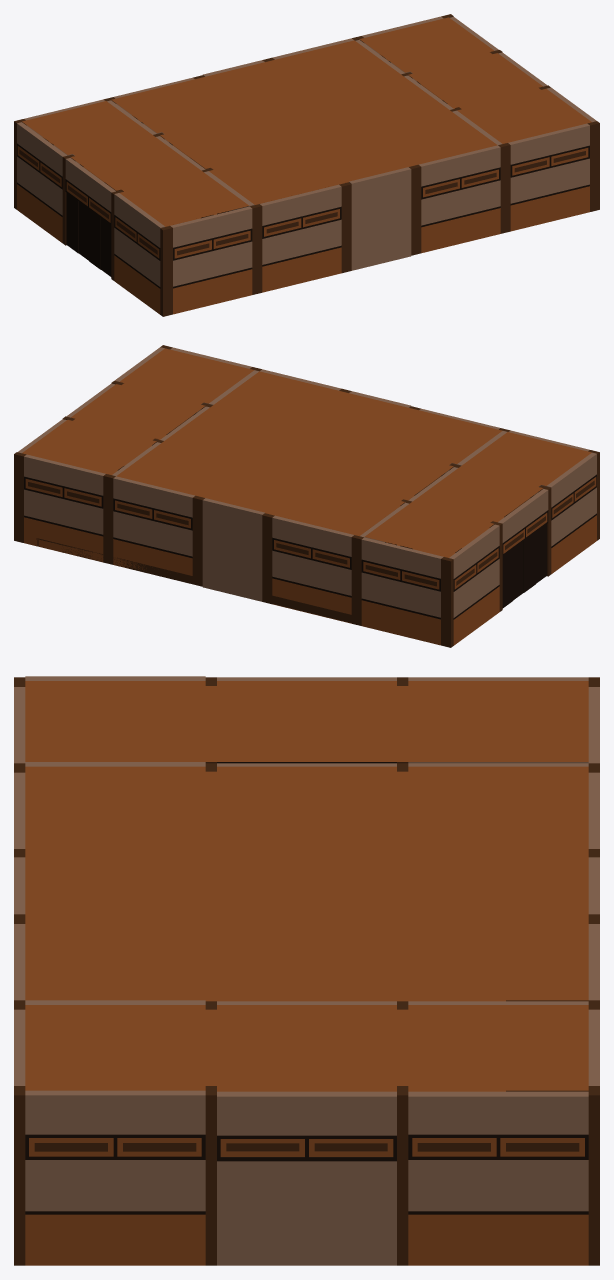
The model's file is Unity dojo.FBX.
3 renders of one model, top to bottom at view 1: azimuth 30°, elevation 25°; view 2: azimuth 150°, elevation 25°; view 3: azimuth 270°, elevation 25°, orthographic. The views are drawn at different scales.
Parts seen in each view (by area): view 1: Roof, wall back, Wall left, Door, Paraphet base_03, Paraphet base_04, Paraphet base_09, Paraphet base_10, Beam, Wall front, Paraphet base_00, Paraphet base_01 (+16 smaller); view 2: Roof, Wall front, Wall left, Door, Paraphet base_06, Paraphet base_08, Platform, Paraphet base_07, Paraphet base_05, Beam, wall back, Paraphet base_01 (+17 smaller); view 3: Roof, wall right, Paraphet base_12, Paraphet base_11, Beam, Wall front, wall back, Wall left, Pillar12, Pillar13, Pillar14, Pillar15 (+10 smaller).
Part boxes in pixels (x1,y1,x2,y2): Roof: (22,17,591,226); wall back: (170,123,589,286); Wall left: (17,122,164,286); Door: (66,192,111,276); Paraphet base_03: (173,269,252,314); Paraphet base_04: (262,247,341,292); Paraphet base_09: (510,186,589,231); Paraphet base_10: (421,208,500,253); Beam: (107,39,501,211); Wall front: (24,16,443,164); Paraphet base_00: (114,255,160,314); Paraphet base_01: (17,184,62,242); Roof: (22,348,591,557); Wall front: (24,454,443,617); Wall left: (449,452,596,617); Door: (502,524,546,608); Paraphet base_06: (361,600,440,645); Paraphet base_08: (24,517,103,562); Platform: (36,538,356,623); Paraphet base_07: (113,539,192,575); Paraphet base_05: (272,578,351,623); Beam: (112,370,506,542); wall back: (170,347,589,495); Paraphet base_01: (453,586,499,645); Roof: (25,681,588,1090); wall right: (25,1090,588,1265); Paraphet base_12: (25,1214,205,1265); Paraphet base_11: (408,1214,588,1265); Beam: (25,762,588,1004); Wall front: (588,687,599,1085); wall back: (14,687,25,1085); Wall left: (25,676,588,763); Pillar12: (205,1086,216,1265); Pillar13: (14,1086,25,1265); Pillar14: (588,1086,599,1265); Pillar15: (397,1086,408,1265).
Bounding box in the file's own units: 1056 × 201 × 624.
